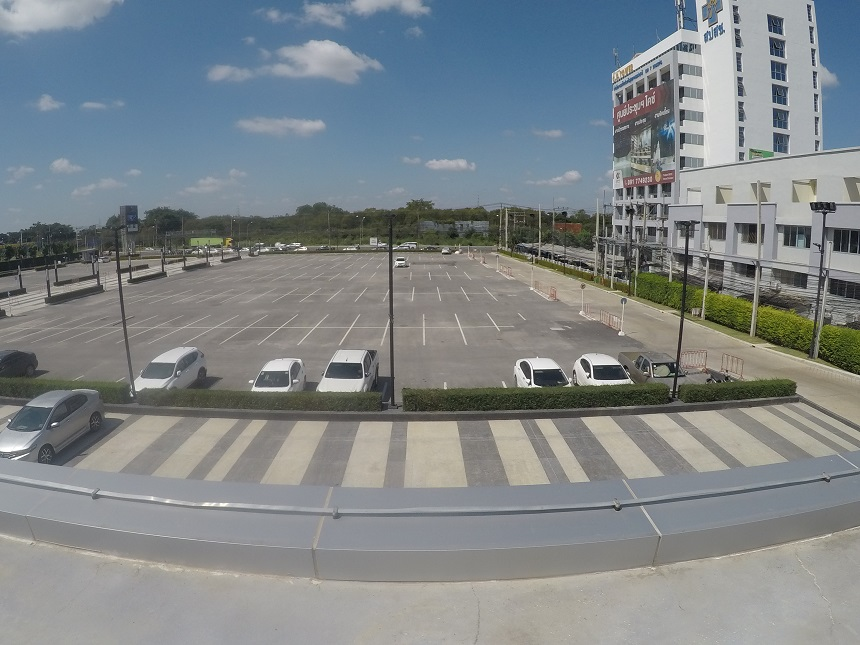busy: (12, 413, 84, 455), (322, 355, 371, 387), (145, 358, 192, 389), (252, 365, 305, 388), (635, 353, 676, 379), (512, 361, 556, 385), (574, 362, 622, 384)
